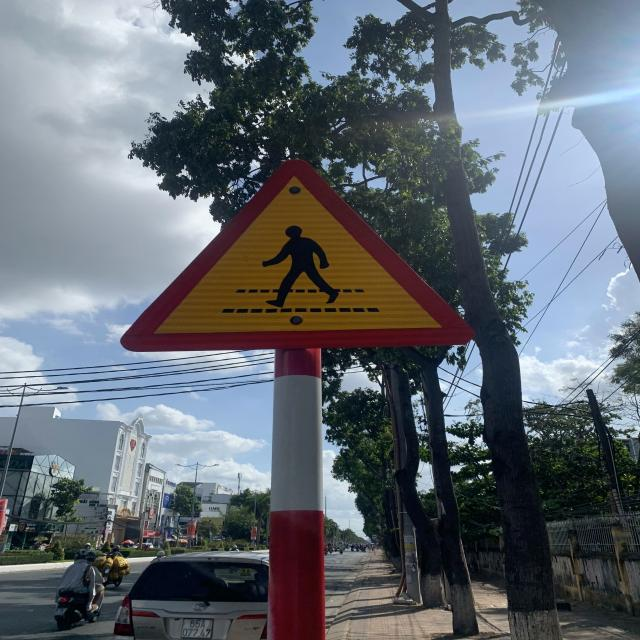Duong_Nguoi_Di_Bo_Sang_Ngang: (118, 156, 474, 350)
